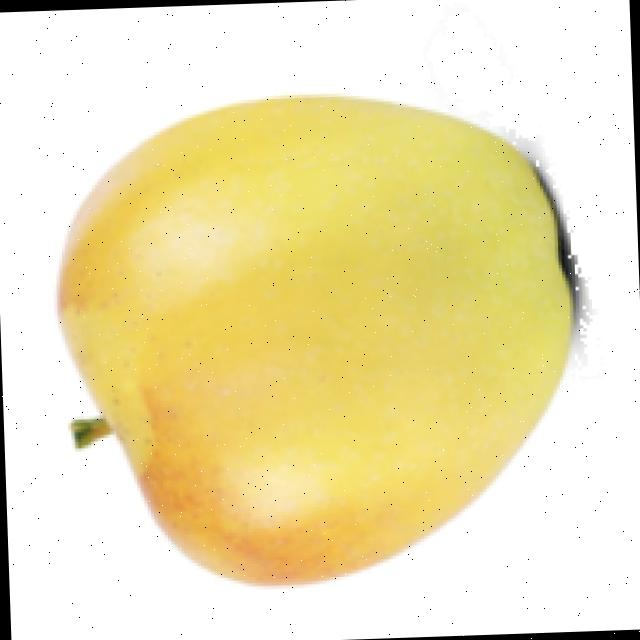apple: (50, 50, 599, 591)
